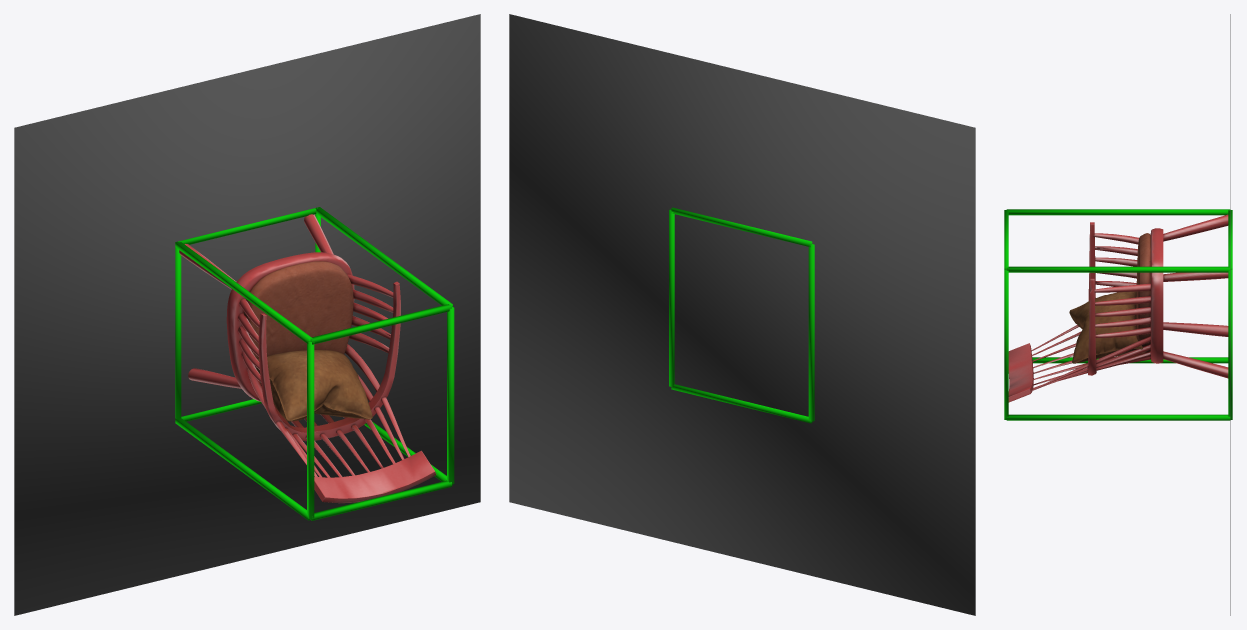
3 views of the same model, side by side, from view 1: azimuth 30°, elevation 25°; view 2: azimuth 150°, elevation 25°; view 3: azimuth 270°, elevation 25° (orthographic). The views are drawn at different scales.
Size of the model in its own units: 2 by 2 by 1.01.
